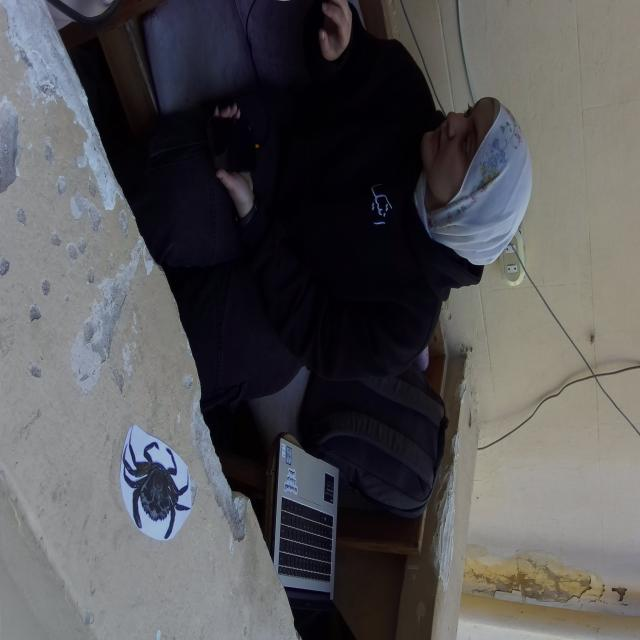European_Green_Crab: (112, 422, 199, 555)
